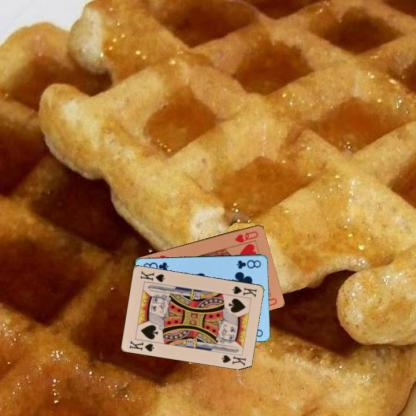8c: (234, 257, 262, 270)
Ks: (230, 283, 258, 298), (127, 338, 156, 352)
Qh: (232, 228, 260, 244)
